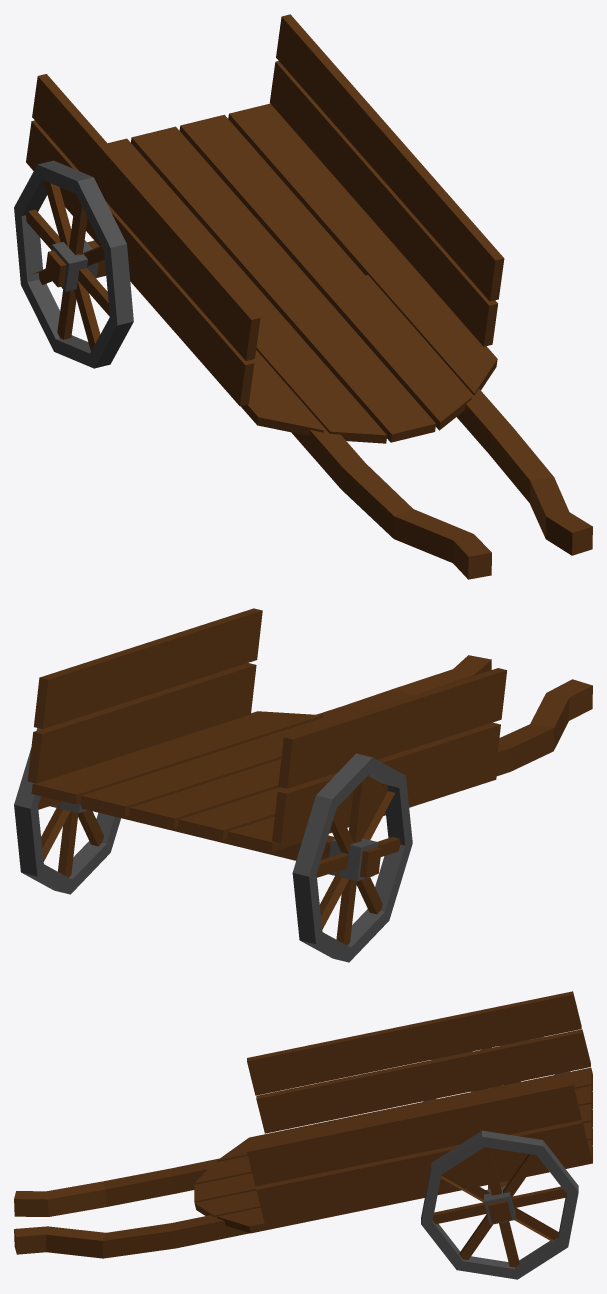
The model's file is TradingWaggon.fbx.
3 views of the same model, one above another, from view 1: azimuth 30°, elevation 25°; view 2: azimuth 150°, elevation 25°; view 3: azimuth 270°, elevation 25° (orthographic). The views are drawn at different scales.
Parts seen in each view (by area): view 1: Cube; view 2: Cube; view 3: Cube.
Boxes of the visible parts, left/top/right/bottom form: Cube: left=14, top=14, right=592, bottom=579; Cube: left=14, top=608, right=592, bottom=962; Cube: left=14, top=991, right=592, bottom=1279.
Bounding box in the file's own units: 171 × 129 × 352.
